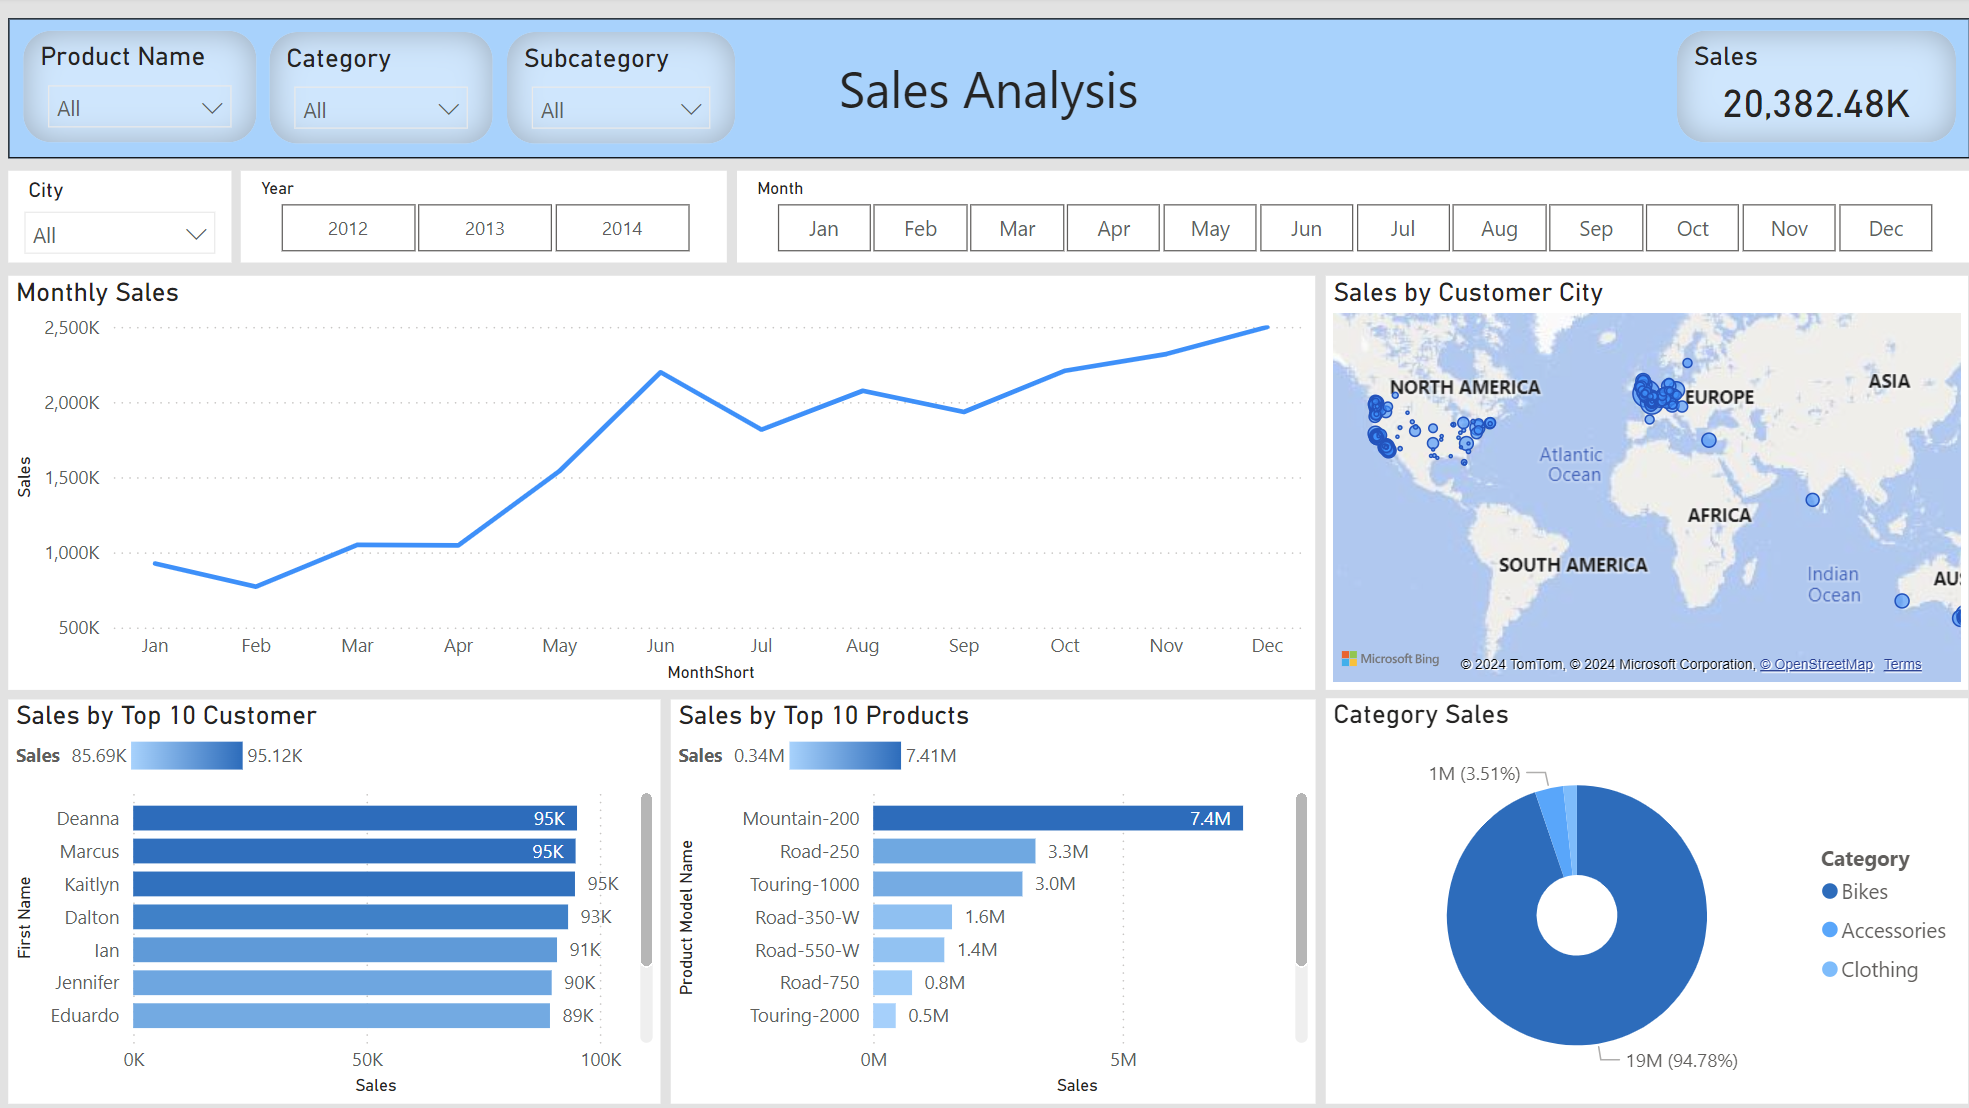

The dashboard page shown, as its layout file describes it:
{"tool":"powerbi","page":{"name":"Page 1","canvas":[1280,720],"ordinal":0},"visuals":[{"type":"textbox","box":[7.4,13.7,1265.2,90.8],"z":0},{"type":"slicer","title":"Product Name","fields":{"Values":["Product_Table.Product Name"]},"box":[15.8,21.1,152,73.9],"z":1000},{"type":"slicer","title":"Category","fields":{"Values":["Product_Table.Category"]},"box":[175.2,22.2,145.6,73.9],"z":2000},{"type":"slicer","title":"Subcategory","fields":{"Values":["Product_Table.Subcategory"]},"box":[328.2,22.2,148.8,73.9],"z":3000},{"type":"card","title":"Sales","fields":{"Values":["Sales_Table.Sales"]},"box":[1082.7,21.1,181.5,73.9],"z":4000},{"type":"map","title":"Percentage of Sales by City","fields":{"Category":["Customer_Table.Customer City"],"Size":["Sales_Table.Sales"]},"box":[857.3,179.8,414.5,266.9],"z":5000},{"type":"donutChart","fields":{"Y":["Sales_Table.Sales"],"Category":["Product_Table.Category"]},"box":[857.3,452.4,414.5,261.3],"z":6000},{"type":"slicer","fields":{"Values":["Date_Table.MonthShort"]},"box":[477.3,112.2,795.2,59.3],"z":7000},{"type":"slicer","fields":{"Values":["Date_Table.Year"]},"box":[157.6,112.2,313.3,59.3],"z":8000},{"type":"slicer","title":"City","fields":{"Values":["Customer_Table.Customer City"]},"box":[7.1,111.7,143.6,59.4],"z":10000},{"type":"lineChart","title":"Monthly Sales","fields":{"Y":["Measures (2).Sales"],"Category":["Date_Table.MonthShort"]},"box":[7.3,179.8,843.6,266.9],"z":10001},{"type":"barChart","fields":{"Y":["Measures (2).Sales"],"Category":["Customer_Table.First Name"]},"box":[7.3,453.2,421,260.5],"z":10002},{"type":"barChart","fields":{"Category":["Product_Table.Product Model Name"],"Y":["Measures (2).Sales"]},"box":[434.7,453.2,416.1,260.5],"z":10003}]}

Visuals, with their boxes in screenshot pixels (x1, y1, x2, y2), scaled from the page's 1280x720 canvas onto the 1969x1108 screenshot:
textbox: x1=11 y1=21 x2=1958 y2=161
"Product Name" slicer: x1=24 y1=32 x2=258 y2=146
"Category" slicer: x1=270 y1=34 x2=493 y2=148
"Subcategory" slicer: x1=505 y1=34 x2=734 y2=148
"Sales" card: x1=1665 y1=32 x2=1945 y2=146
"Percentage of Sales by City" map: x1=1319 y1=277 x2=1956 y2=687
donutChart - Sales_Table.Sales x Product_Table.Category: x1=1319 y1=696 x2=1956 y2=1098
slicer - Date_Table.MonthShort: x1=734 y1=173 x2=1957 y2=264
slicer - Date_Table.Year: x1=242 y1=173 x2=724 y2=264
"City" slicer: x1=11 y1=172 x2=232 y2=263
"Monthly Sales" lineChart: x1=11 y1=277 x2=1309 y2=687
barChart - Measures (2).Sales x Customer_Table.First Name: x1=11 y1=697 x2=659 y2=1098
barChart - Product_Table.Product Model Name x Measures (2).Sales: x1=669 y1=697 x2=1309 y2=1098
